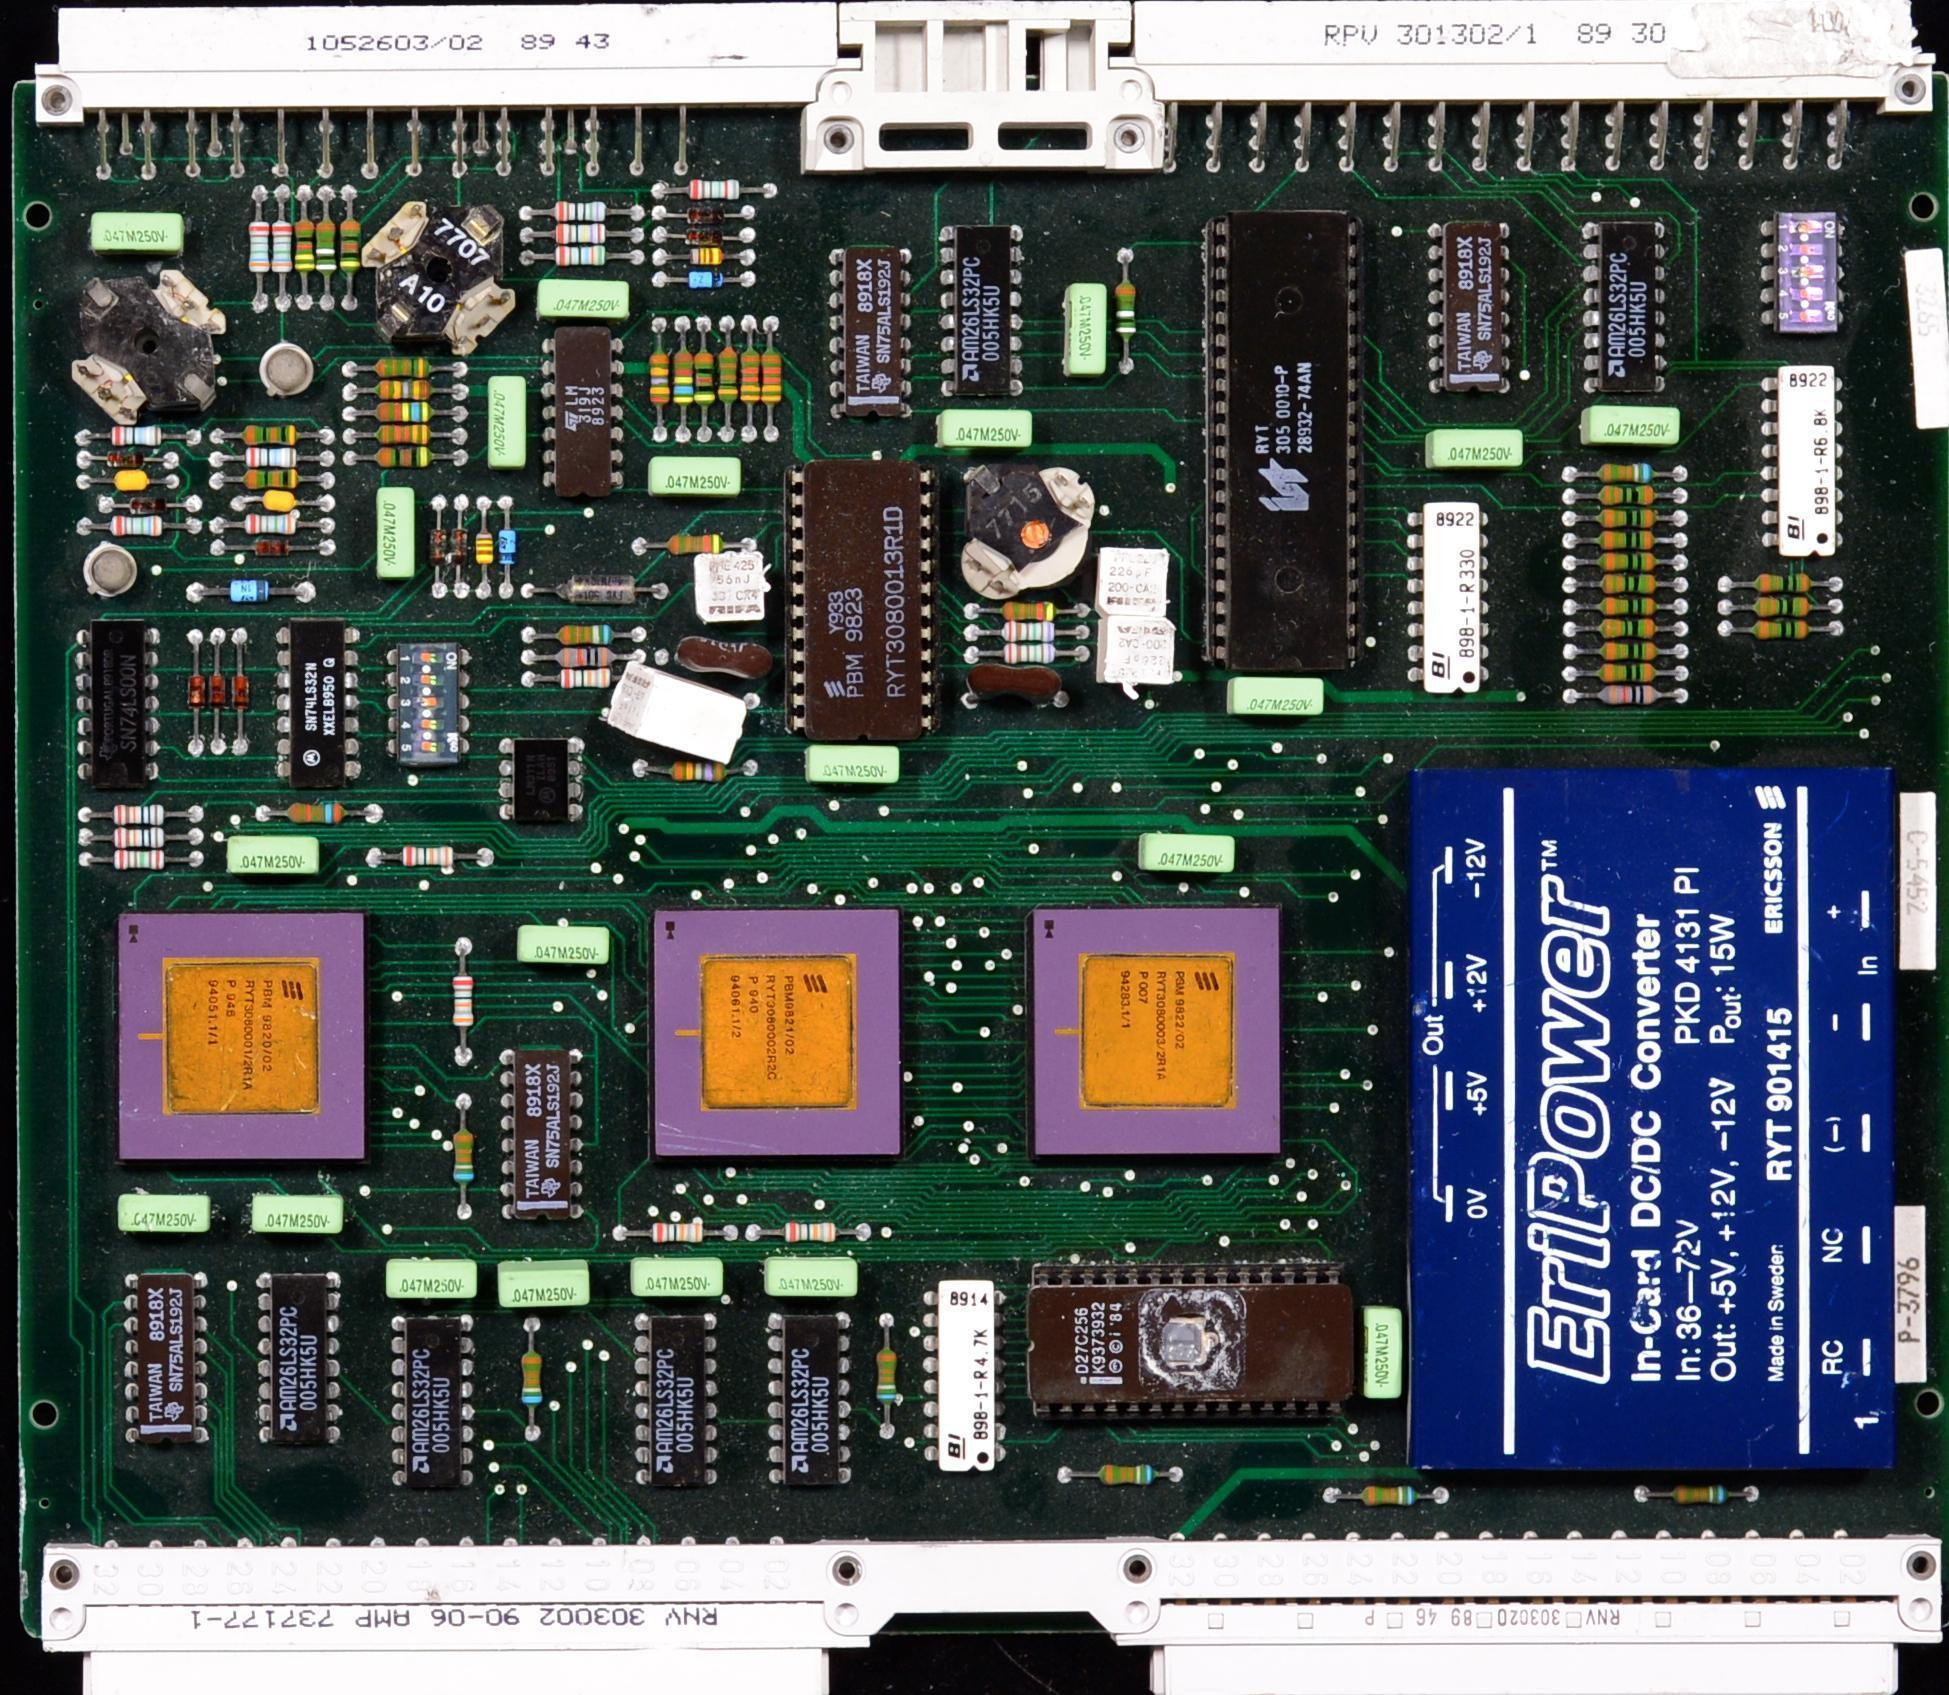Capacitor: (74, 468, 183, 492), (221, 493, 339, 514)
Connector: (1407, 498, 1493, 702), (1767, 362, 1842, 560)
IC: (1201, 216, 1370, 676), (1027, 1261, 1360, 1419), (781, 458, 934, 744), (1567, 208, 1681, 421), (262, 615, 373, 785), (1427, 214, 1526, 392), (68, 615, 159, 798), (125, 1269, 212, 1449), (253, 1268, 339, 1449), (827, 248, 918, 416), (500, 1046, 583, 1223), (390, 1316, 471, 1489), (941, 224, 1020, 404), (635, 1315, 716, 1486), (769, 1315, 850, 1487), (490, 734, 579, 821)
Resistor: (255, 796, 383, 827), (74, 423, 203, 450), (632, 759, 760, 785), (961, 596, 1095, 622), (242, 196, 271, 307), (961, 619, 1092, 644), (347, 357, 470, 381), (213, 426, 335, 450), (1565, 482, 1685, 507), (739, 314, 762, 444), (715, 317, 737, 445), (317, 191, 339, 318), (1718, 618, 1846, 641), (1117, 242, 1139, 376), (346, 447, 470, 470), (1566, 528, 1690, 551), (1718, 571, 1842, 595), (959, 644, 1089, 666), (630, 532, 756, 554), (613, 1221, 738, 1242), (520, 202, 645, 223), (76, 805, 201, 827), (203, 471, 337, 490), (524, 1317, 544, 1450), (520, 226, 642, 247), (454, 1092, 474, 1223), (274, 190, 296, 301), (207, 514, 336, 533), (1562, 619, 1691, 640), (454, 940, 474, 1065), (521, 248, 647, 268), (368, 846, 494, 867), (79, 848, 205, 868), (81, 517, 205, 537), (651, 316, 671, 439), (1566, 575, 1689, 594), (1564, 664, 1687, 685), (349, 424, 463, 445), (764, 313, 782, 445), (1564, 462, 1685, 482), (675, 316, 692, 447), (1562, 643, 1690, 661), (1719, 598, 1847, 616), (349, 404, 476, 423), (210, 450, 336, 469), (1564, 510, 1691, 528), (341, 192, 360, 315), (347, 381, 467, 399), (653, 180, 773, 199), (522, 648, 653, 664), (880, 1311, 897, 1440), (1564, 555, 1694, 572), (77, 828, 205, 845), (696, 320, 713, 447), (523, 627, 639, 645), (659, 268, 756, 290), (476, 497, 495, 598), (1566, 688, 1686, 704), (1336, 1487, 1451, 1502), (497, 496, 515, 598), (1565, 599, 1687, 615), (749, 1224, 867, 1240), (1062, 1465, 1180, 1479), (525, 669, 644, 683), (301, 194, 313, 318), (658, 250, 756, 264)
